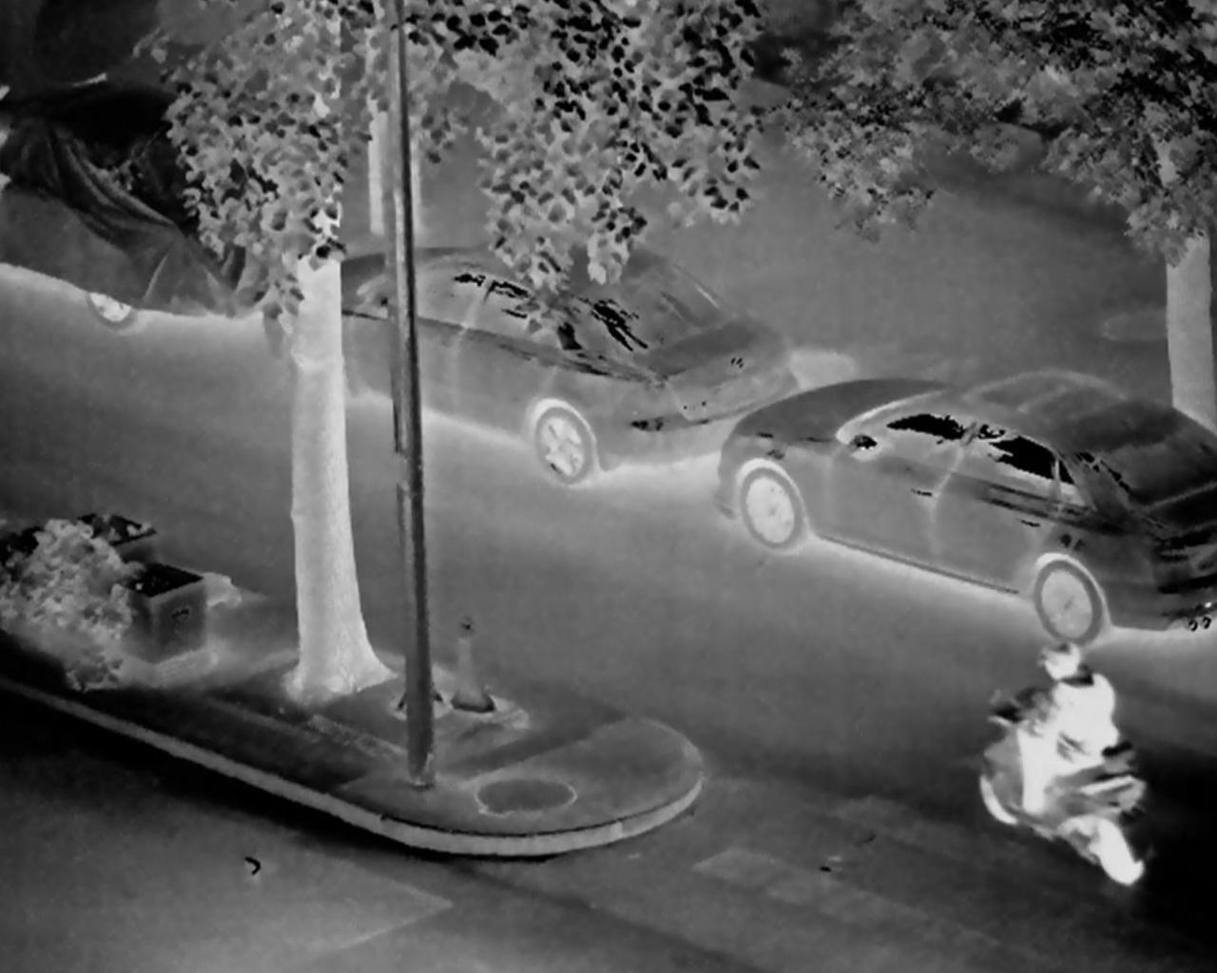person: (986, 637, 1168, 868)
